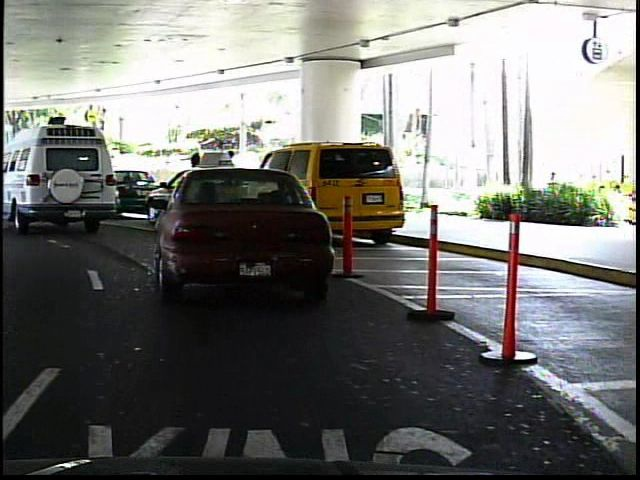person: (221, 146, 246, 212), (184, 147, 208, 211), (59, 154, 81, 198), (4, 158, 22, 198)
